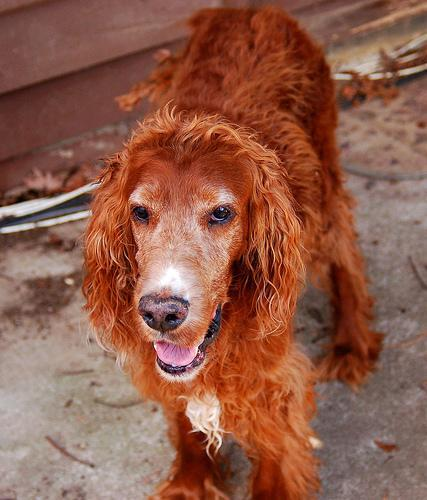Irish_setter: (73, 6, 384, 498)
